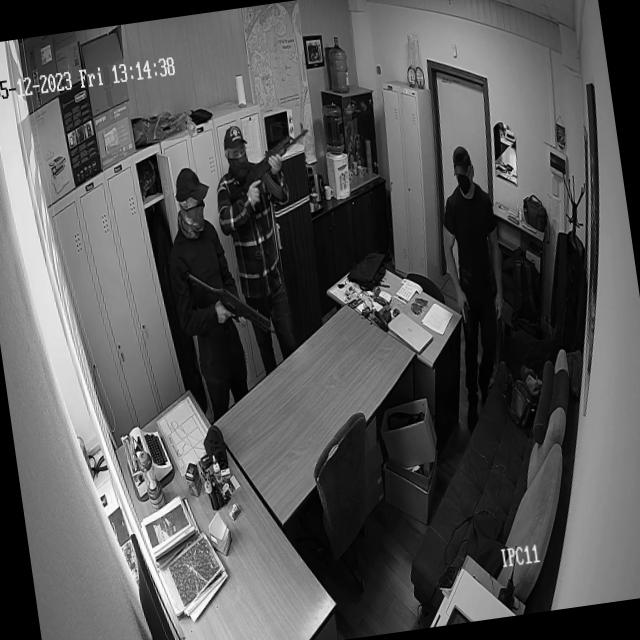gun: (184, 250, 278, 347), (220, 124, 316, 200), (458, 292, 476, 337)
person with a gun: (154, 166, 254, 403), (432, 146, 517, 400), (213, 124, 300, 359)
